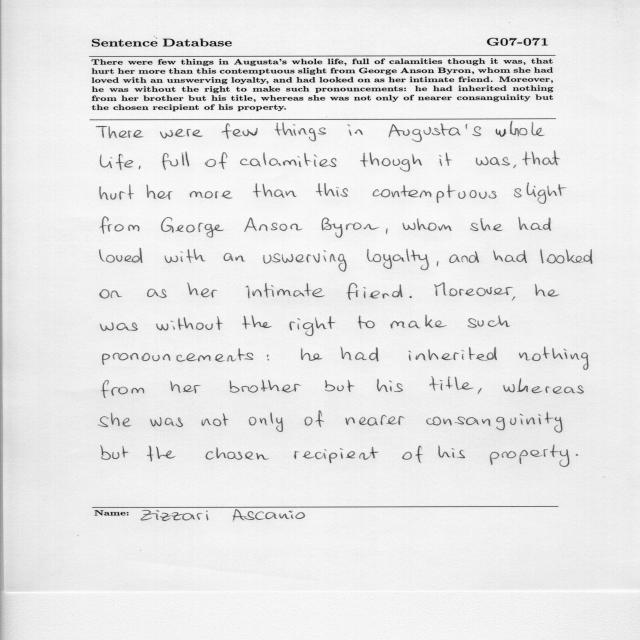word: (426, 412, 563, 433), (103, 348, 254, 365), (373, 184, 497, 203), (263, 250, 347, 272), (490, 445, 570, 467), (389, 123, 481, 142), (519, 346, 589, 370), (435, 283, 516, 301), (294, 447, 379, 463), (240, 153, 336, 167), (161, 217, 224, 238), (367, 249, 429, 270), (503, 378, 584, 394), (408, 347, 497, 361), (245, 283, 325, 298), (322, 217, 379, 238), (360, 153, 422, 172), (514, 183, 566, 204), (156, 316, 222, 331), (275, 123, 326, 142), (347, 283, 403, 300), (230, 380, 301, 393), (290, 316, 336, 336), (244, 217, 302, 232), (206, 447, 270, 460), (390, 315, 447, 329), (540, 249, 593, 264), (496, 121, 545, 137), (102, 380, 144, 398), (249, 412, 283, 432), (101, 217, 140, 234), (253, 183, 297, 198), (430, 376, 474, 391), (345, 415, 405, 426), (100, 248, 143, 263), (403, 218, 452, 231), (222, 123, 258, 139), (165, 249, 206, 263), (341, 347, 379, 362), (97, 126, 144, 138), (468, 315, 510, 328), (100, 184, 134, 200), (522, 151, 560, 165), (100, 154, 133, 170), (162, 151, 189, 170), (519, 217, 552, 231), (99, 413, 132, 427), (188, 283, 218, 298), (316, 183, 348, 197), (147, 446, 175, 462), (493, 250, 527, 263), (470, 218, 503, 231), (242, 315, 272, 329), (101, 445, 129, 460), (146, 185, 173, 200), (205, 152, 227, 170), (160, 129, 203, 138), (170, 382, 201, 394), (449, 251, 479, 263), (402, 446, 423, 463), (202, 413, 229, 426), (438, 446, 465, 459), (325, 380, 354, 392), (190, 191, 233, 199), (100, 322, 138, 331), (377, 379, 403, 392), (150, 417, 183, 427), (305, 411, 325, 427), (476, 157, 510, 166), (301, 348, 322, 361), (358, 316, 375, 329), (100, 289, 122, 299), (224, 253, 245, 262), (348, 124, 363, 136), (147, 289, 166, 298), (439, 153, 452, 166), (535, 284, 546, 297), (548, 290, 560, 297), (478, 388, 482, 394), (513, 165, 516, 169), (267, 355, 269, 361), (139, 166, 141, 170), (386, 228, 387, 234), (437, 261, 438, 267), (409, 296, 412, 298), (576, 454, 578, 456)
